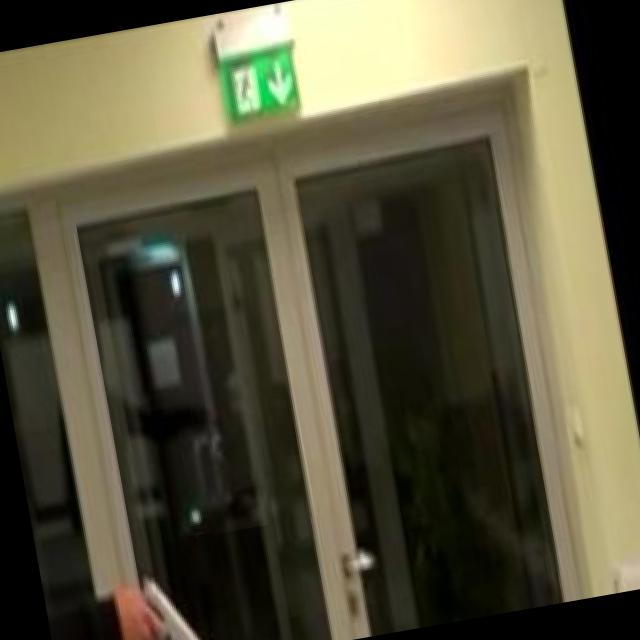Guns: (118, 555, 216, 640)
